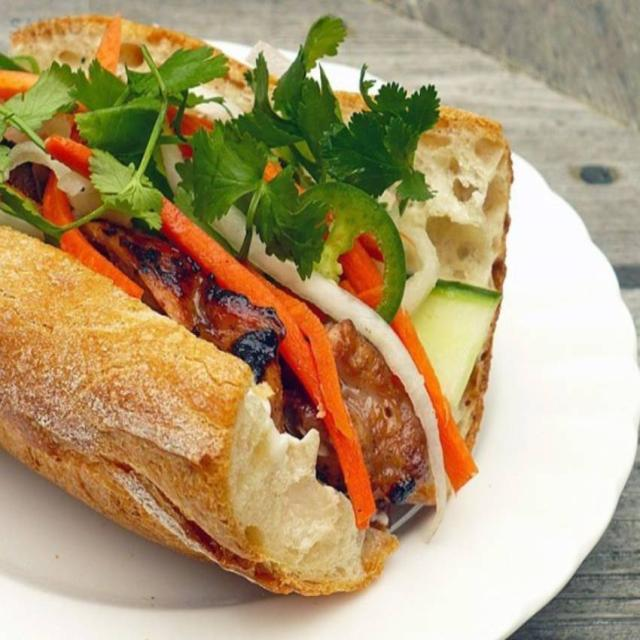banh mi: (0, 107, 514, 599)
rau ngo: (45, 16, 440, 324)
